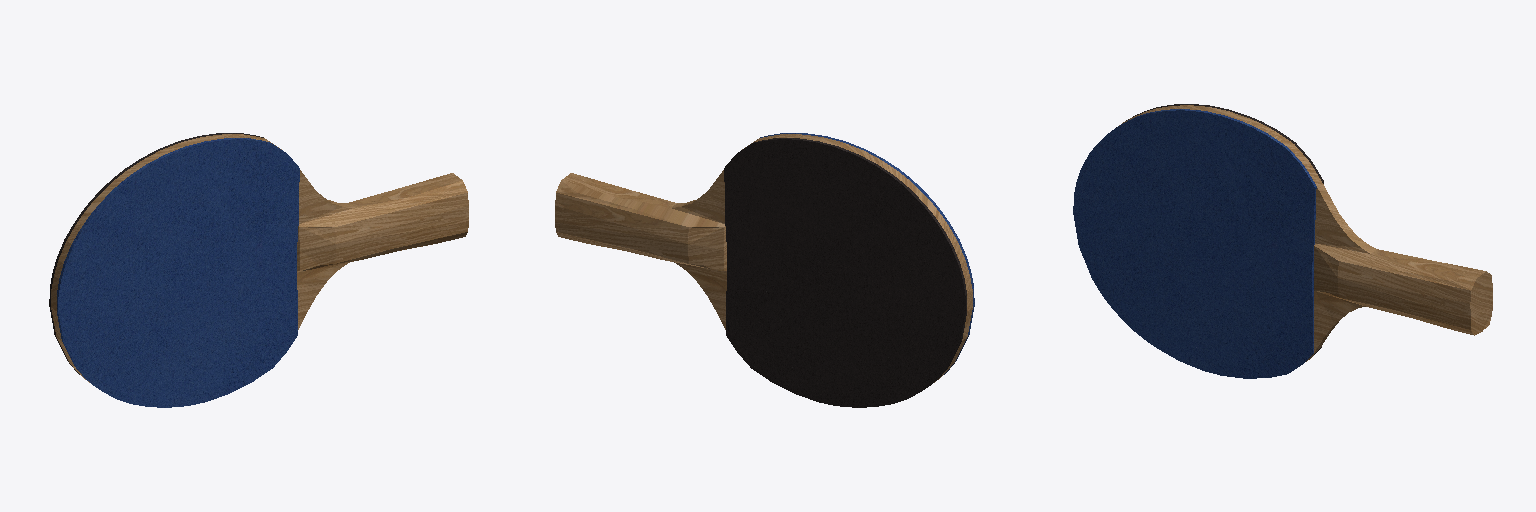
The picture shows the model from 3 angles: view 1: azimuth 30°, elevation 25°; view 2: azimuth 150°, elevation 25°; view 3: azimuth 330°, elevation 25°; orthographic projection.
Visible parts, largest first — view 1: ping-pong_paddle_blue; view 2: ping-pong_paddle_blue; view 3: ping-pong_paddle_blue.
Boxes of the visible parts, x1,y1,x2,y2 form: ping-pong_paddle_blue: [49, 133, 468, 407]; ping-pong_paddle_blue: [555, 133, 974, 407]; ping-pong_paddle_blue: [1073, 104, 1492, 378].
Size of the model in its own units: 0.2391 by 0.1466 by 0.0232.
1 materials, 1 textured.